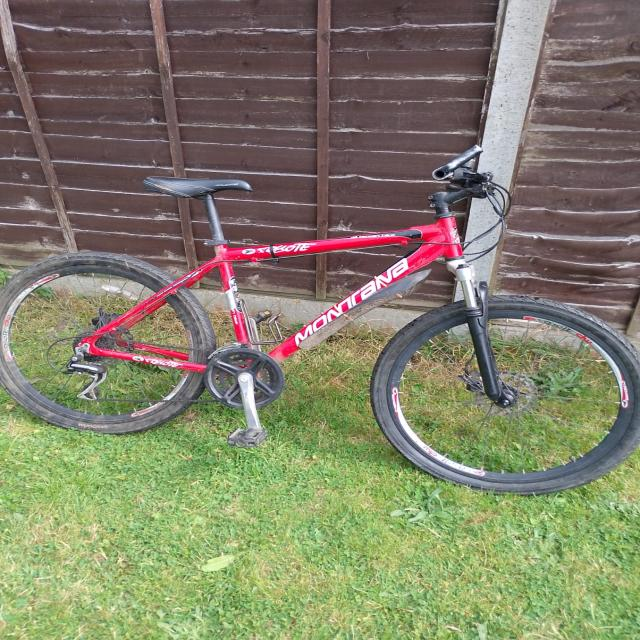bicycle: (11, 138, 640, 503)
